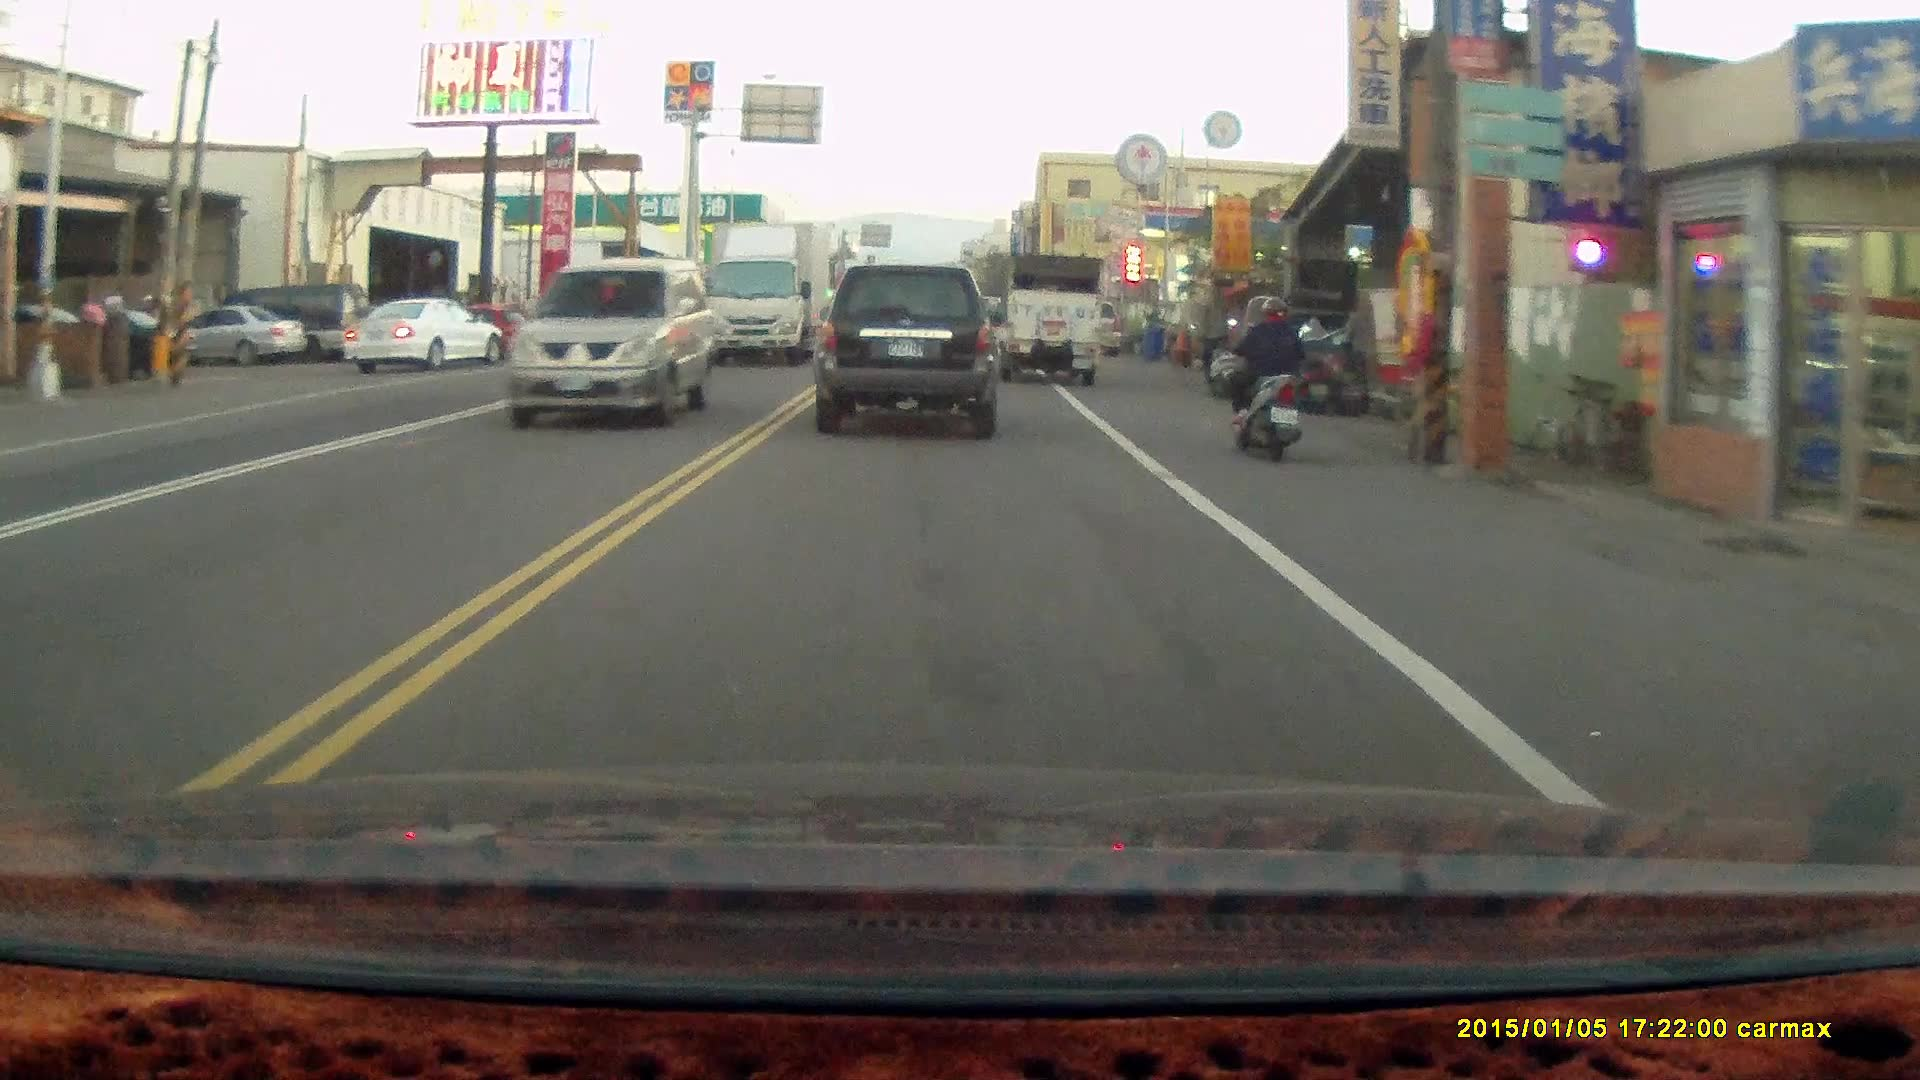rider: (1213, 293, 1307, 464)
vehicle: (511, 260, 712, 430), (817, 259, 1000, 436), (708, 225, 829, 372), (993, 249, 1102, 386), (343, 297, 506, 379), (179, 304, 309, 371)
